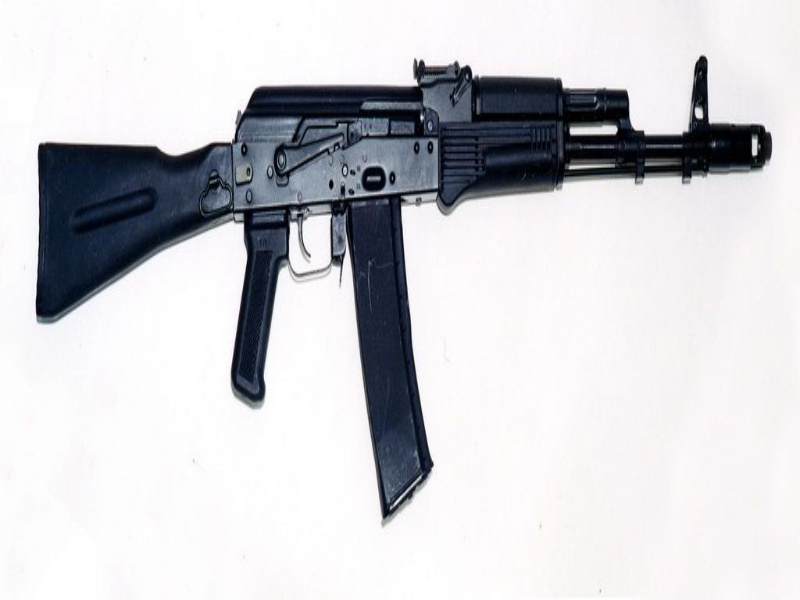gun: (26, 55, 778, 531)
